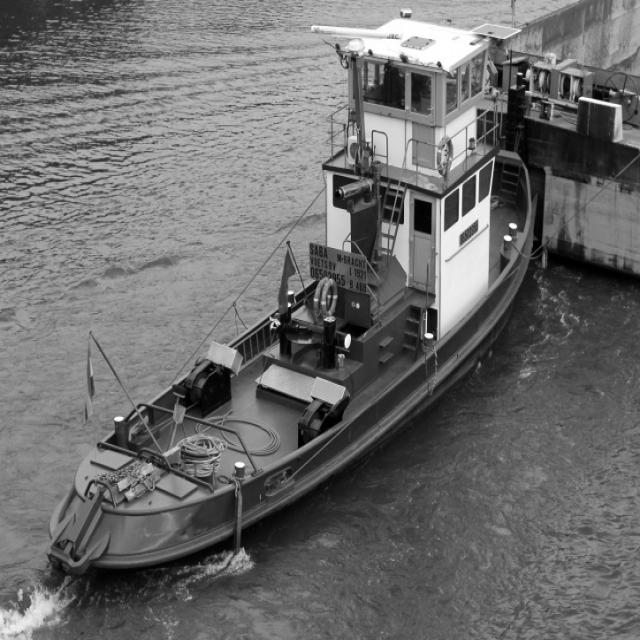tugboat: (41, 6, 553, 596)
